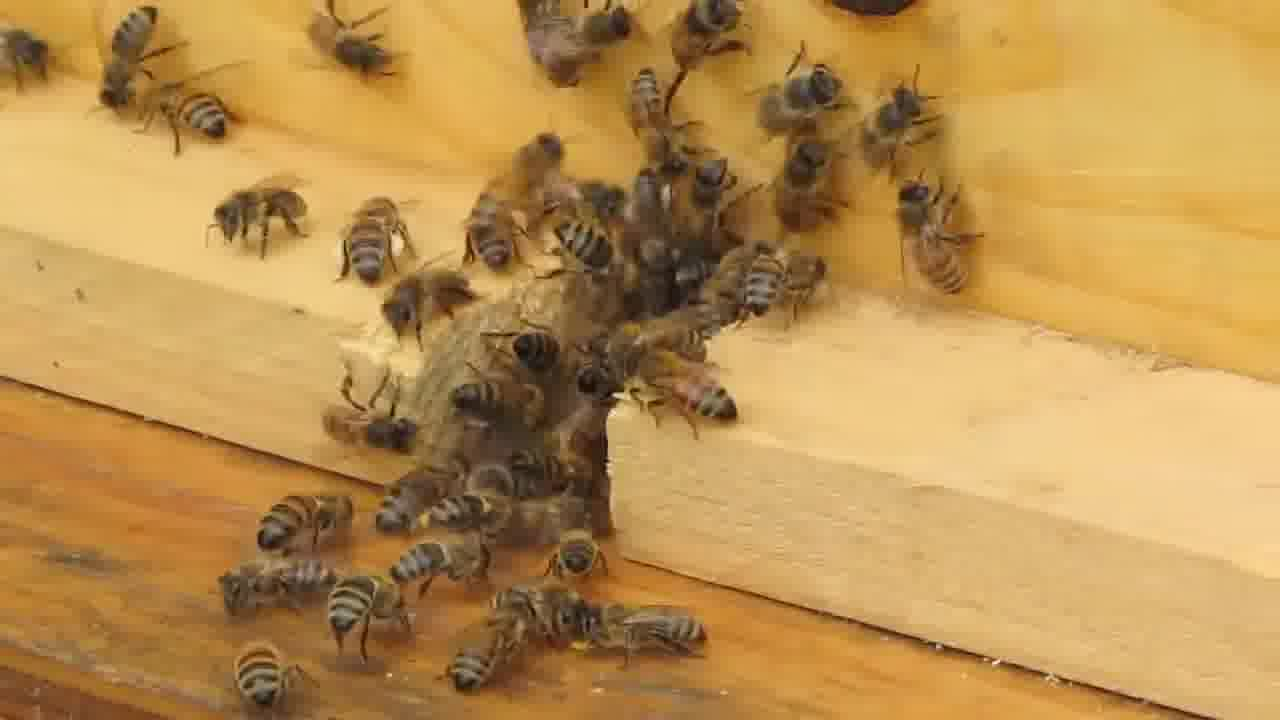pollen: (338, 194, 409, 288)
